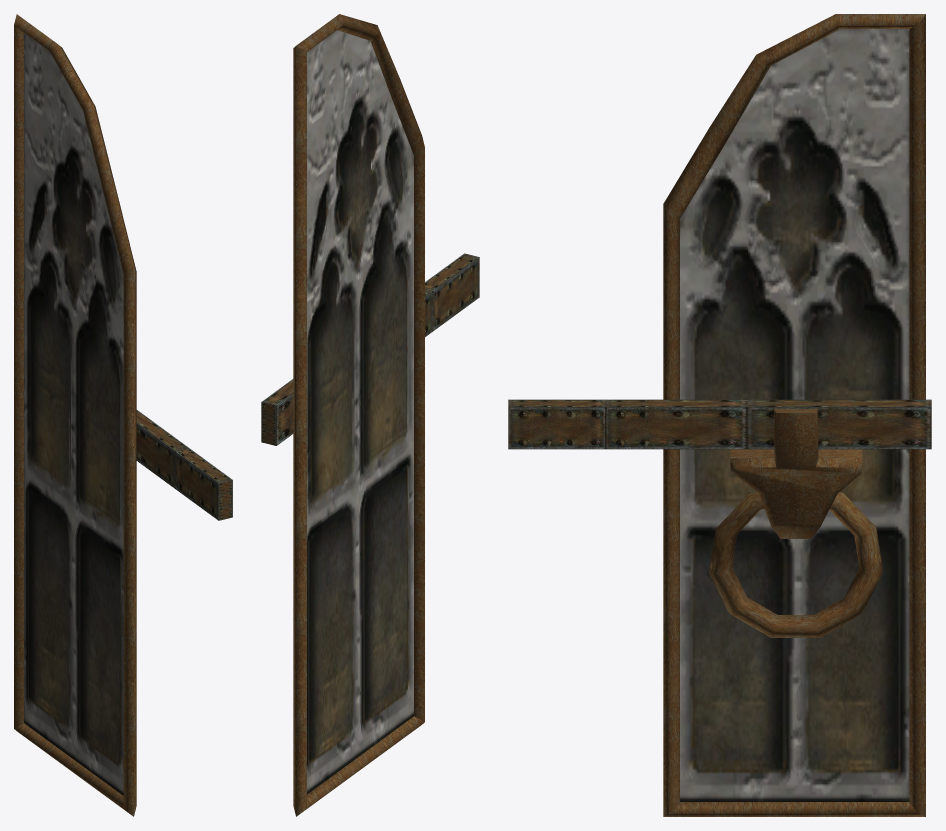
Rendered from ARKENSTON_DOOR_02.fbx.
3 views of the same model, side by side, from view 1: azimuth 30°, elevation 25°; view 2: azimuth 150°, elevation 25°; view 3: azimuth 270°, elevation 25° (orthographic). The views are drawn at different scales.
Parts seen in each view (by area): view 1: ARKENSTON_DOOR_02; view 2: ARKENSTON_DOOR_02; view 3: ARKENSTON_DOOR_02.
Boxes of the visible parts, <box> form: ARKENSTON_DOOR_02: <box>14,14,232,816</box>; ARKENSTON_DOOR_02: <box>261,14,479,816</box>; ARKENSTON_DOOR_02: <box>508,14,931,816</box>.
Bounding box in the file's own units: 7568 × 106589 × 50890.
3 materials, 3 textured.
